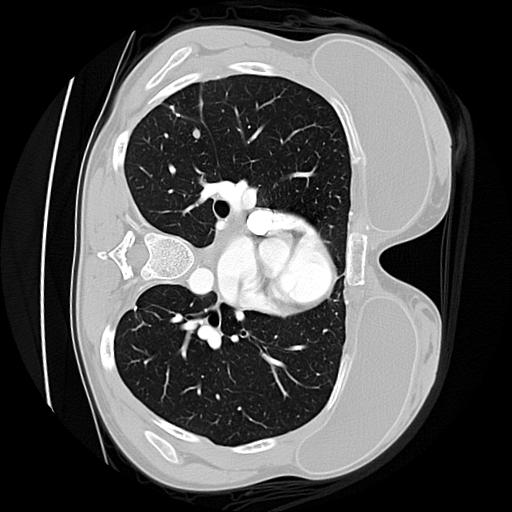nodule: (190, 126, 205, 141)
